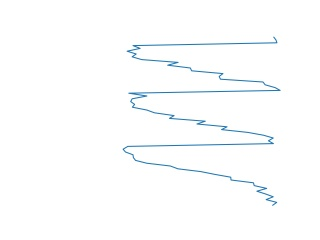distributaryMouthBar: (120, 36, 283, 206)
